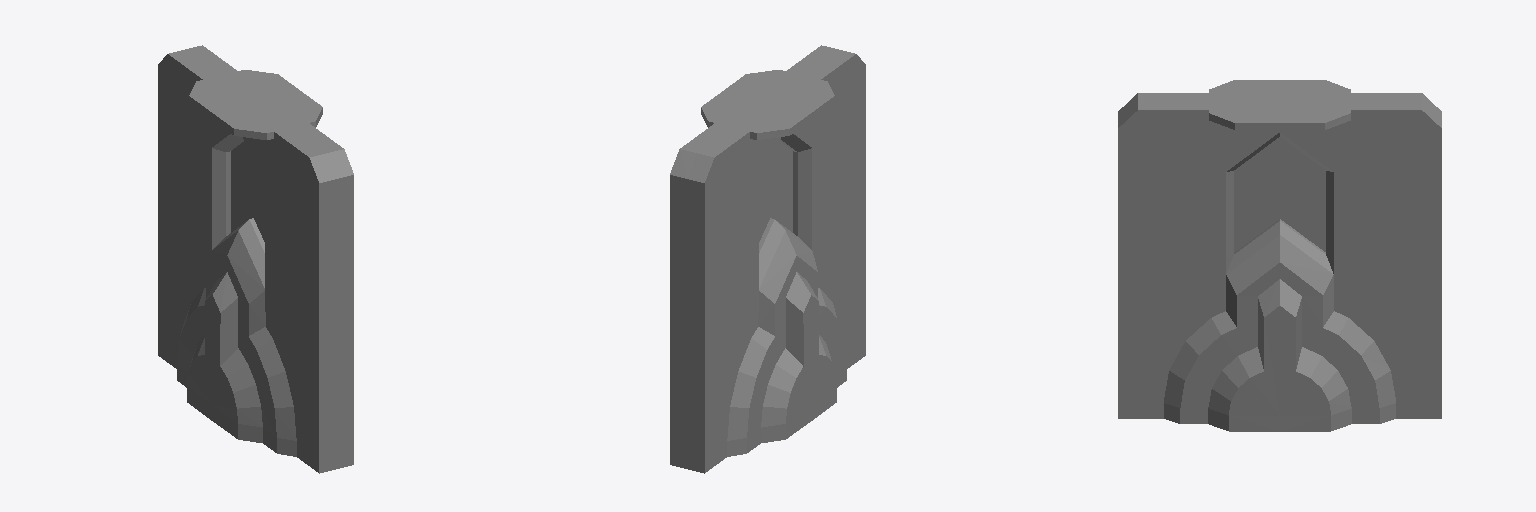
File: airlock_door.obj
3 renders of one model, left to right at view 1: azimuth 30°, elevation 25°; view 2: azimuth 150°, elevation 25°; view 3: azimuth 270°, elevation 25°, orthographic.
Visible parts, largest first — view 1: airlock_door; view 2: airlock_door; view 3: airlock_door.
Part boxes in pixels (bbox=[...]): airlock_door: bbox=[158, 45, 353, 473]; airlock_door: bbox=[670, 45, 865, 473]; airlock_door: bbox=[1118, 80, 1441, 431].
Size of the model in its own units: 81.31 by 270 by 256.